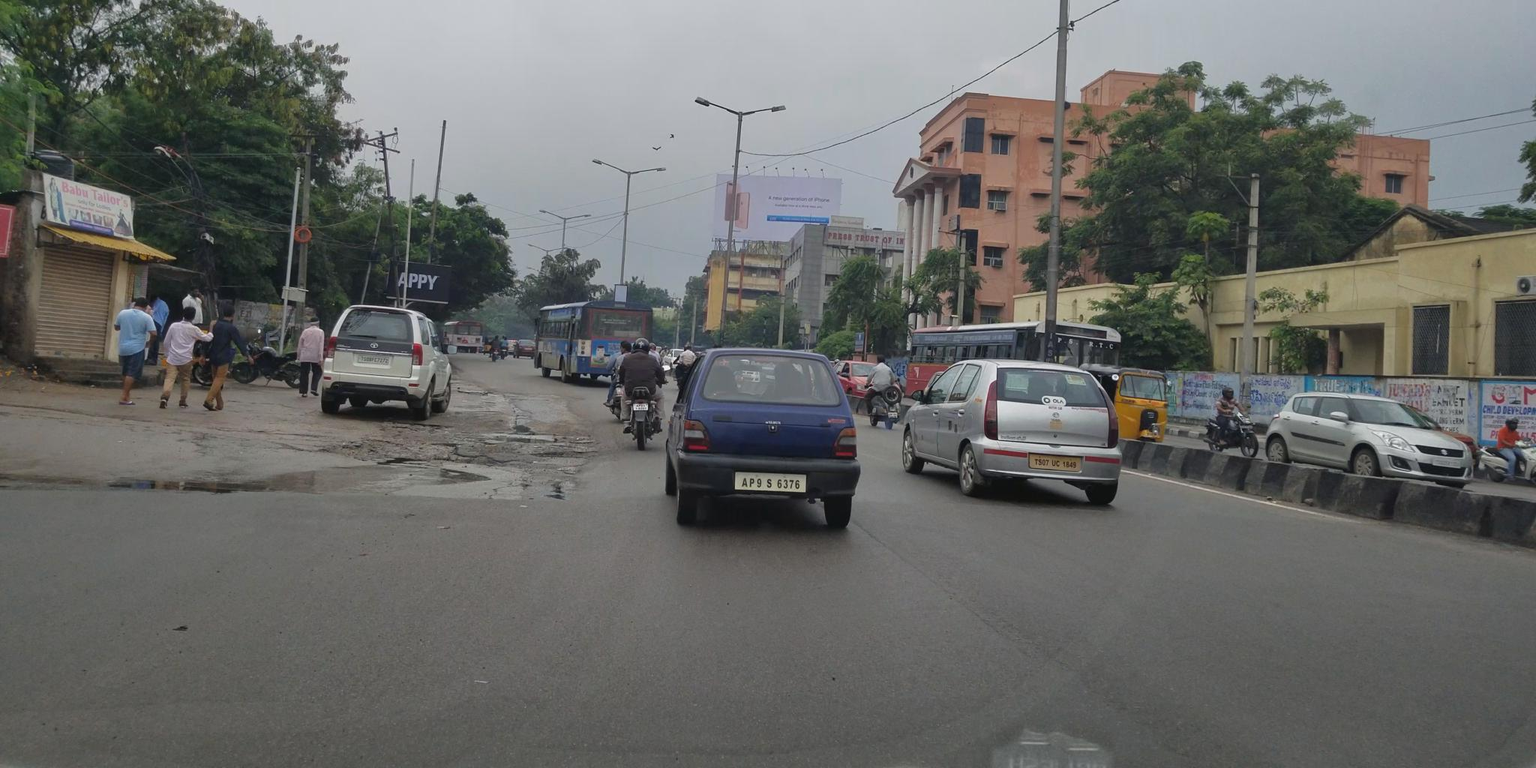streetlight: (692, 79, 747, 124), (578, 148, 630, 188), (741, 88, 789, 130), (623, 154, 676, 189), (536, 202, 579, 226), (561, 204, 601, 227)
